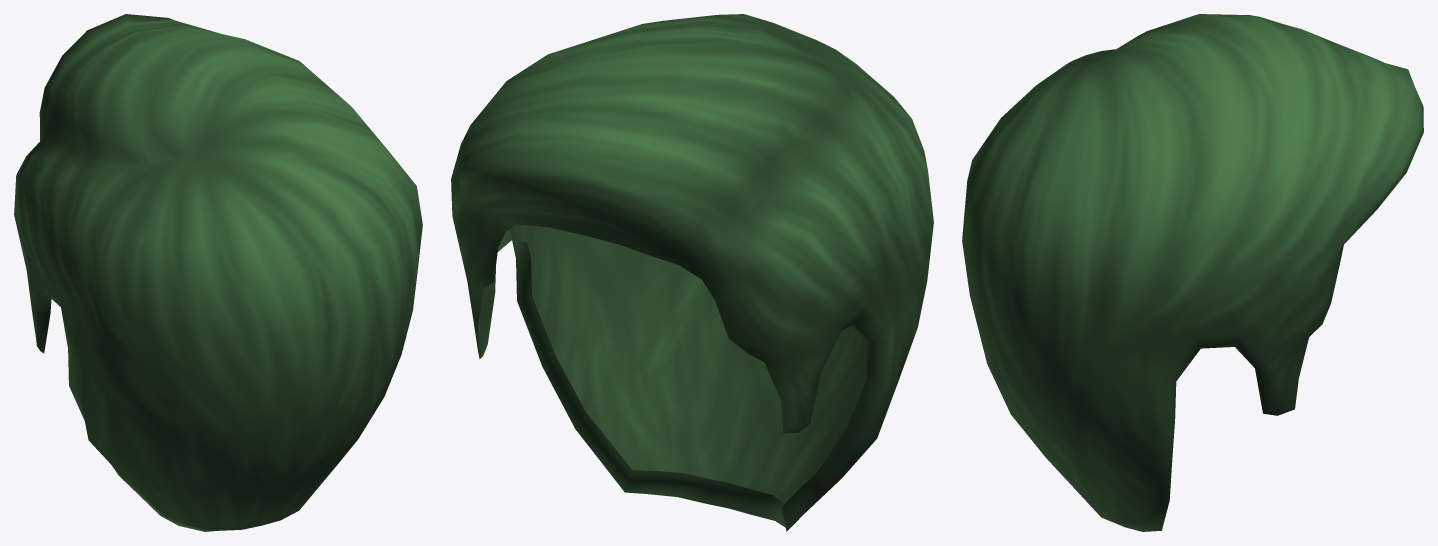
File: Hair_Male_002_textured_green.glb
3 views of the same model, side by side, from view 1: azimuth 30°, elevation 25°; view 2: azimuth 150°, elevation 25°; view 3: azimuth 270°, elevation 25° (orthographic). The views are drawn at different scales.
Parts seen in each view (by area): view 1: Hair_Male_002; view 2: Hair_Male_002; view 3: Hair_Male_002.
Part boxes in pixels (left/top/right/bottom): Hair_Male_002: left=14, top=14, right=422, bottom=531; Hair_Male_002: left=451, top=14, right=933, bottom=531; Hair_Male_002: left=962, top=14, right=1423, bottom=531.
Size of the model in its own units: 0.1882 by 0.2415 by 0.2192.
1 material, 1 textured.
